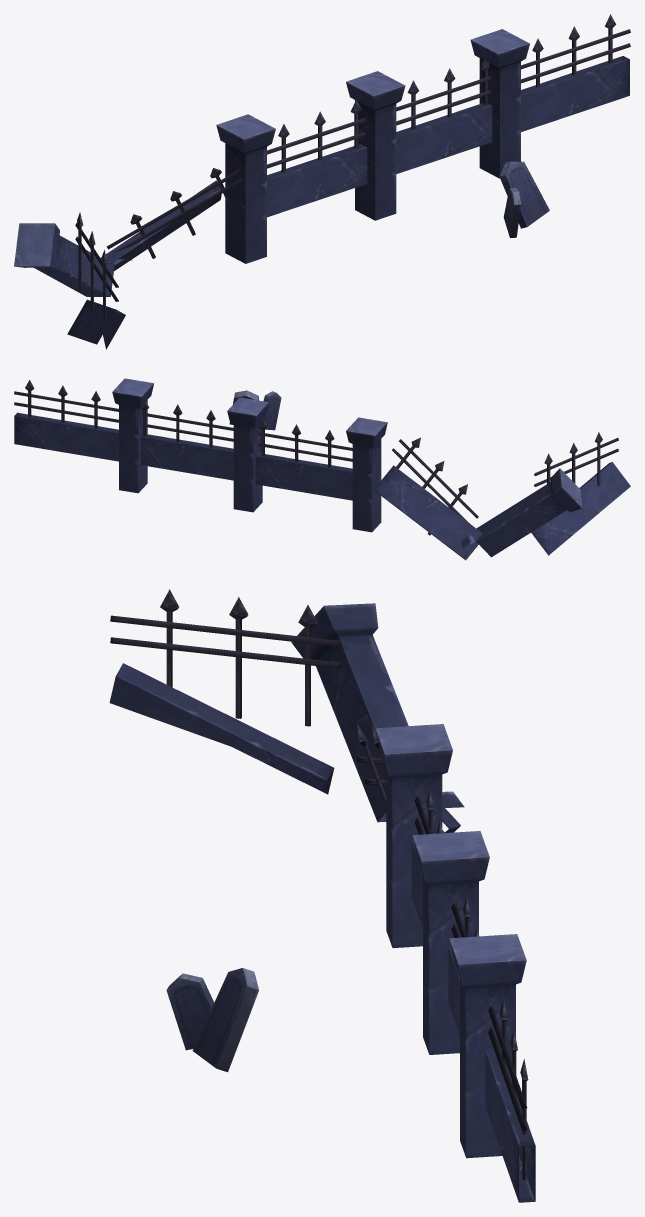
The model's file is Area09_20.fbx.
The picture shows the model from 3 angles, top to bottom: view 1: azimuth 30°, elevation 25°; view 2: azimuth 150°, elevation 25°; view 3: azimuth 270°, elevation 25°; orthographic projection. The views are drawn at different scales.
Visible parts, largest first — view 1: Area09_20; view 2: Area09_20; view 3: Area09_20.
Part boxes in pixels (x1,y1,x2,y2): Area09_20: [14, 14, 630, 349]; Area09_20: [14, 378, 630, 560]; Area09_20: [109, 589, 535, 1202].
Bounding box in the file's own units: 3407 × 659 × 1203.
